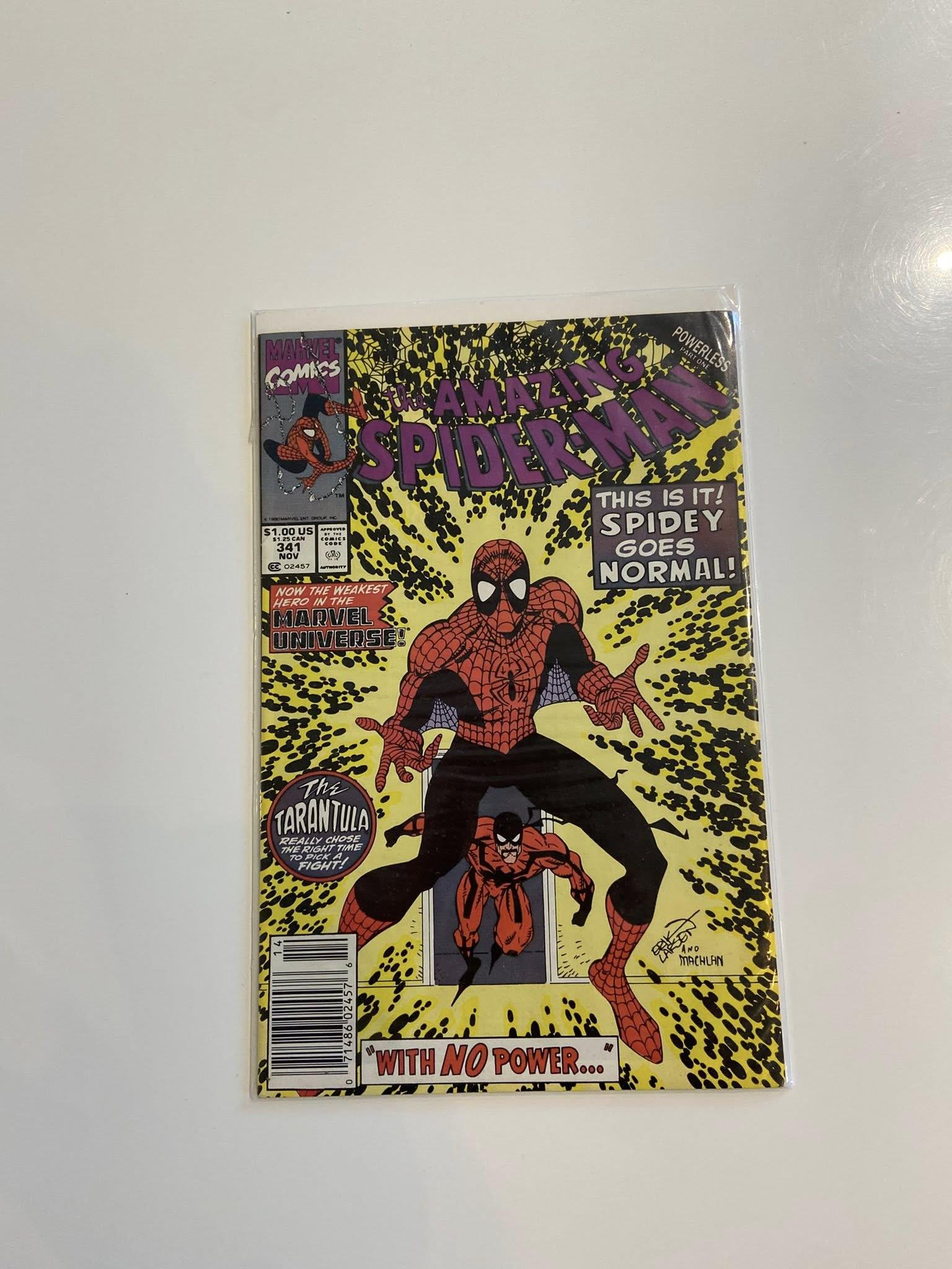comic: (233, 304, 784, 1103)
